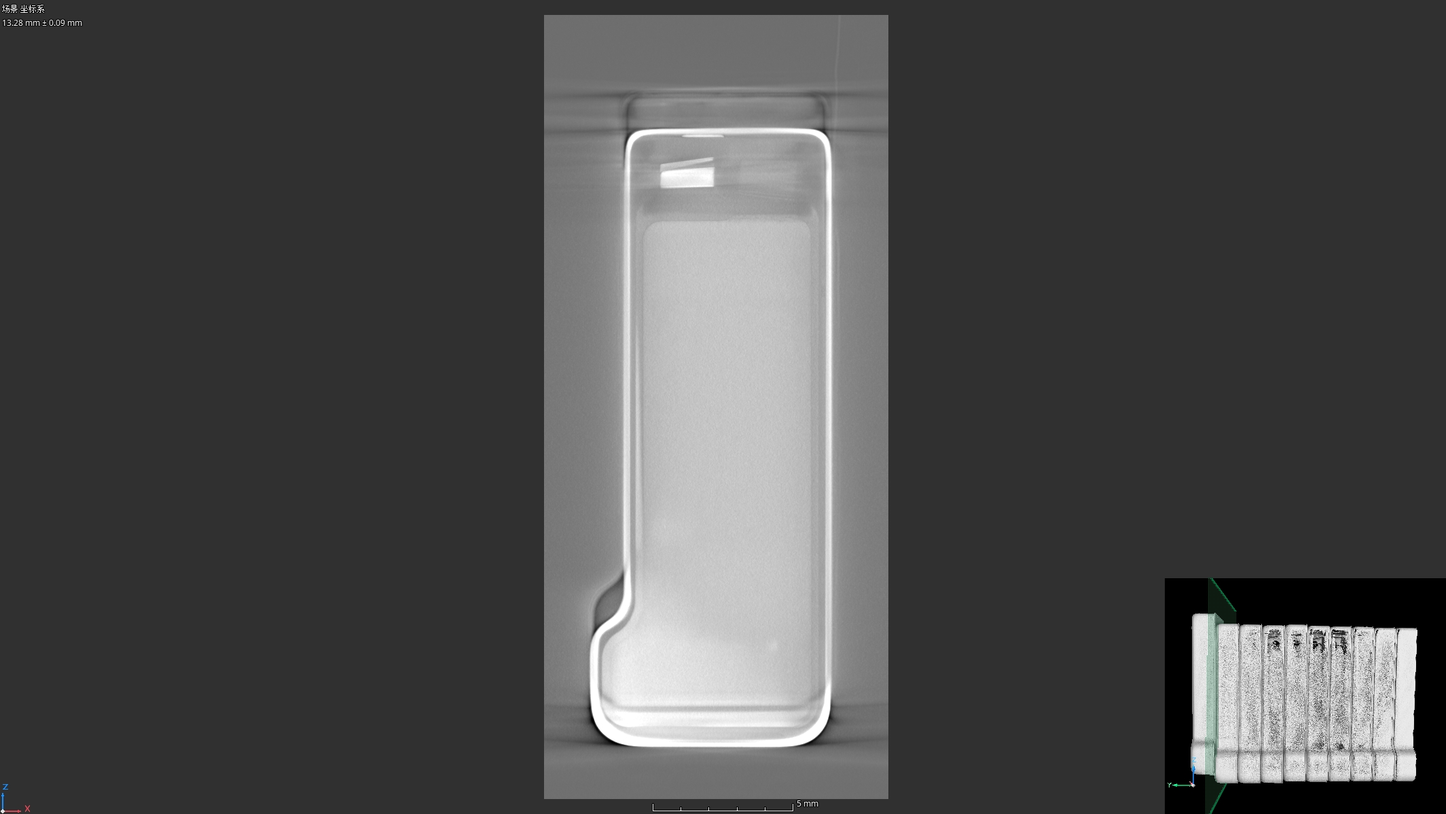light: (766, 637, 780, 653)
